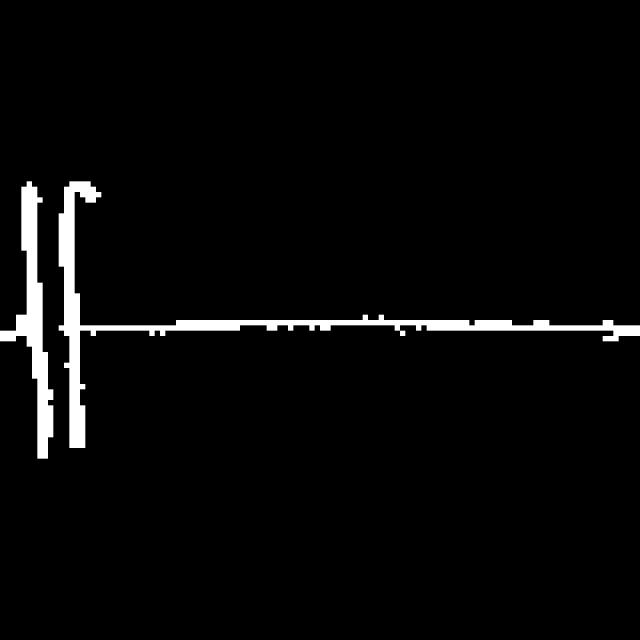capacitor: (9, 176, 117, 472)
